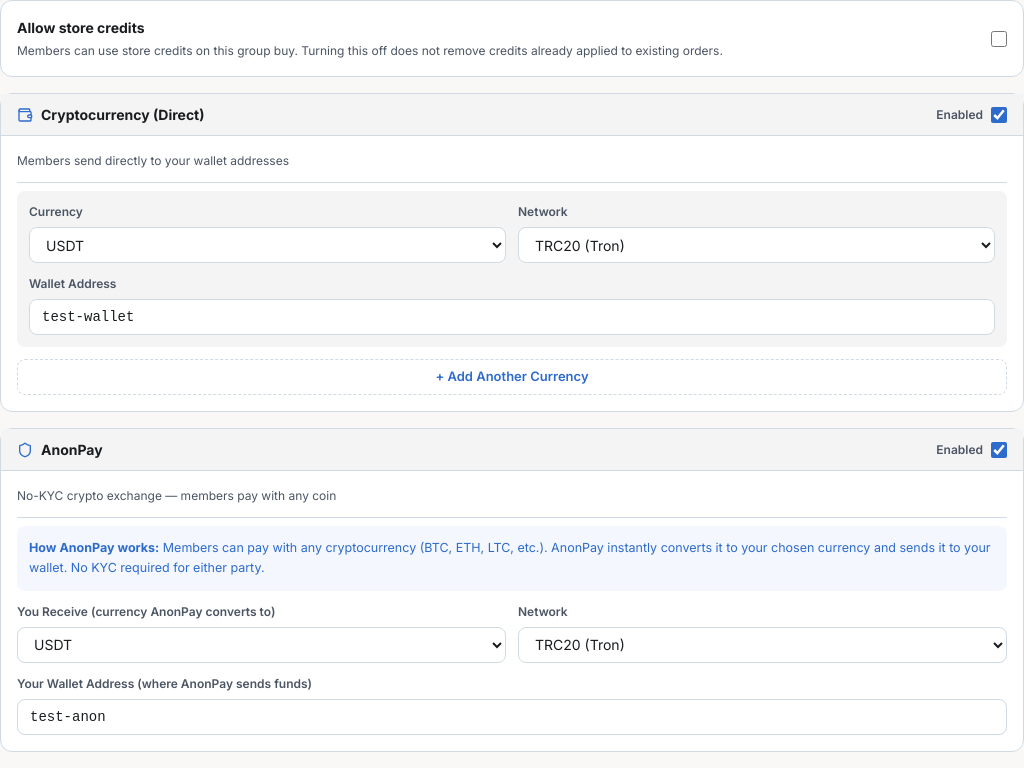
Test: retains the credit toggle between setup steps and submits the selected policy
What coordinates should you click on to do the following:
click the switch named "Allow store credits"
I would click on:
 (999, 38)
Its box is [991,30,1007,46].
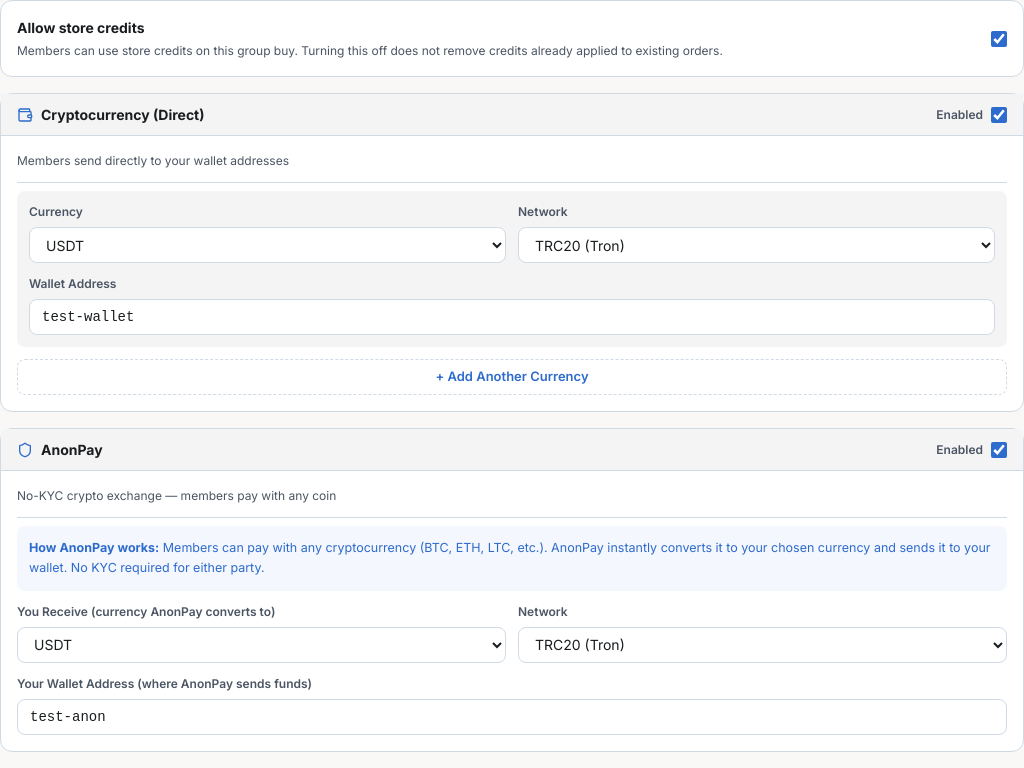
Expected: the switch named "Allow store credits" is checked, [991,30,1007,46]
